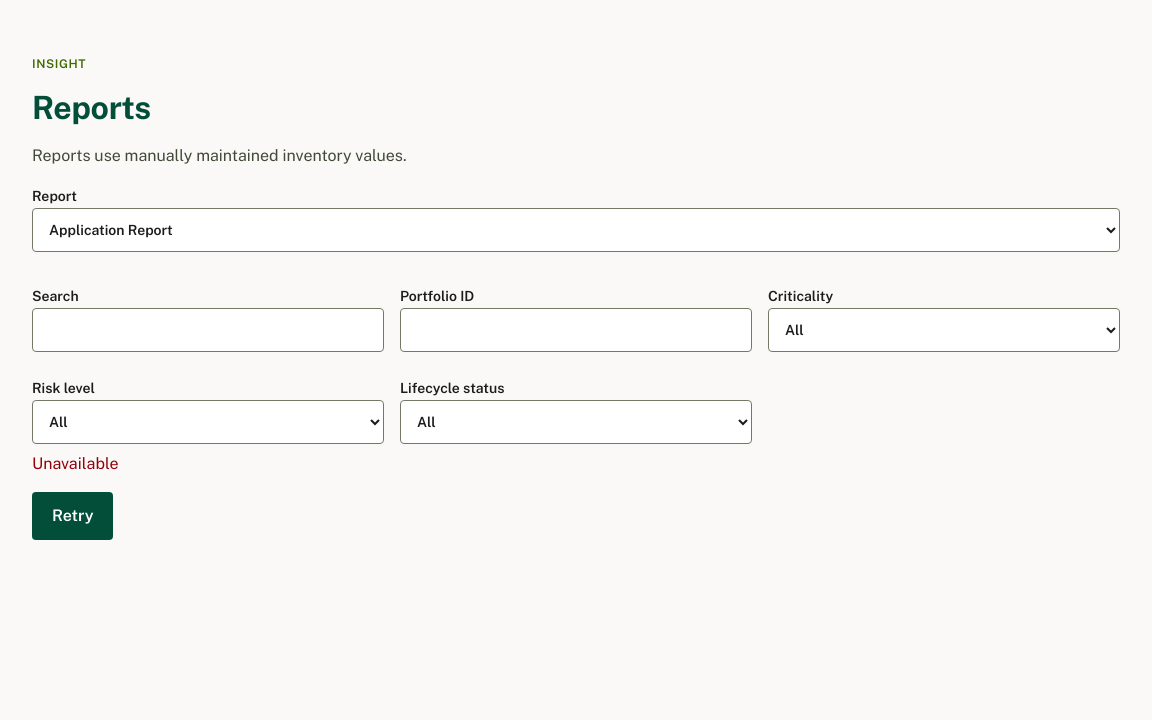
Scenario: shows an error and retries the report
Expected: the message reads "Unavailable", [32,454,118,473]
Click the button "Retry". click: (73,516)
box: [32,492,114,540]
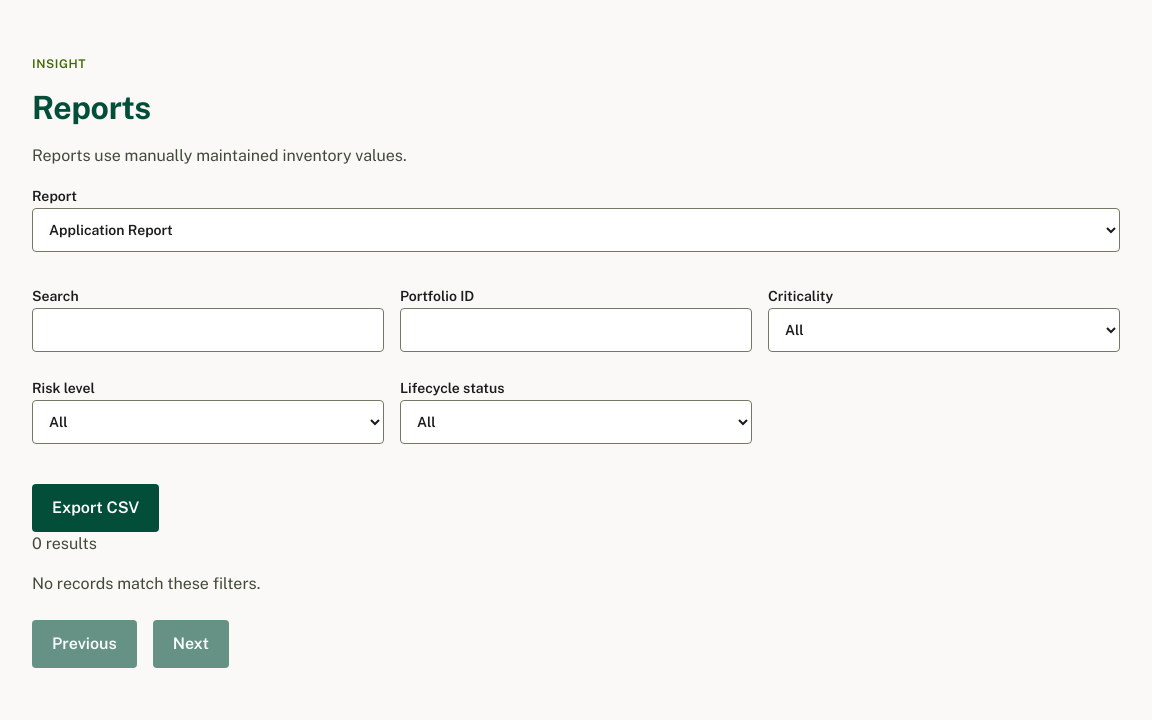
Expected: the text "No records match these filters." is shown, [32,574,260,593]
Expected: the button "Export CSV" is shown, [32,484,159,532]
